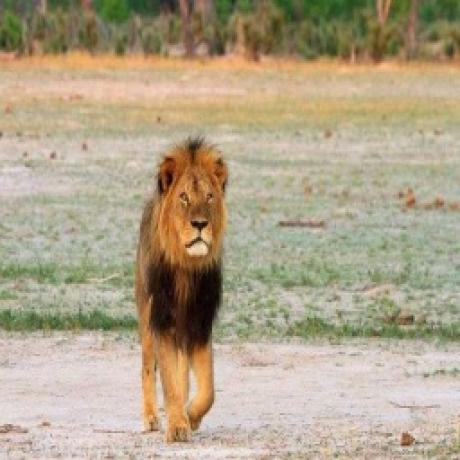Lion: (133, 134, 231, 442)
